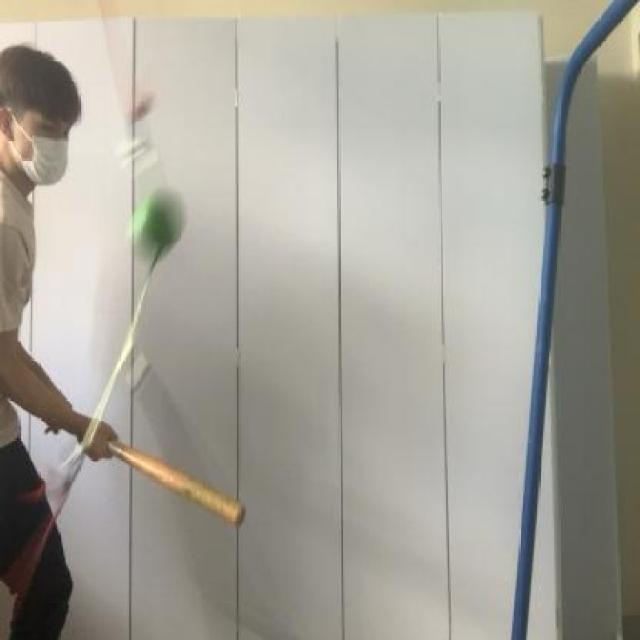baseball: (121, 178, 196, 258)
